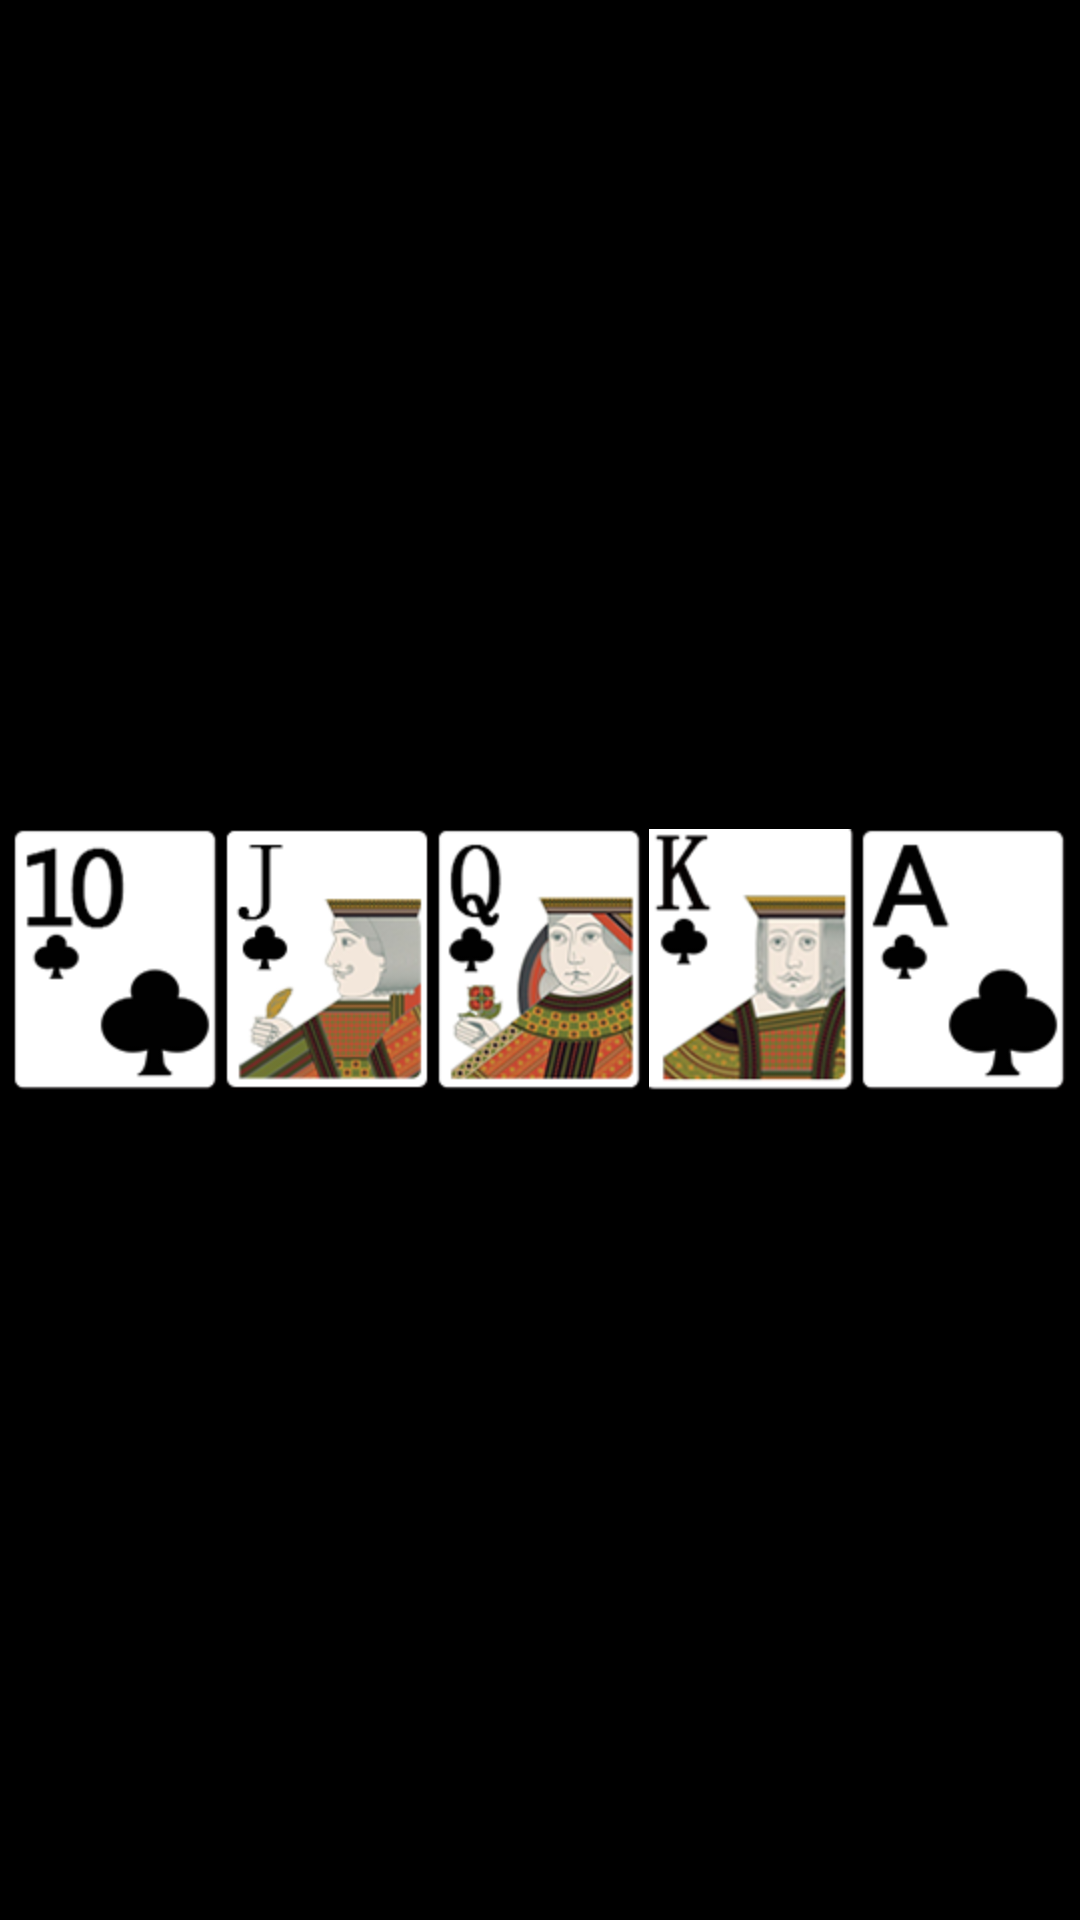

Where icons sit on this 1080*1920 app screen, as region(x1, y1, x2, y2):
club: region(649, 829, 853, 1090), region(14, 830, 216, 1089), region(226, 830, 428, 1088), region(438, 830, 640, 1089), region(862, 830, 1064, 1089)
